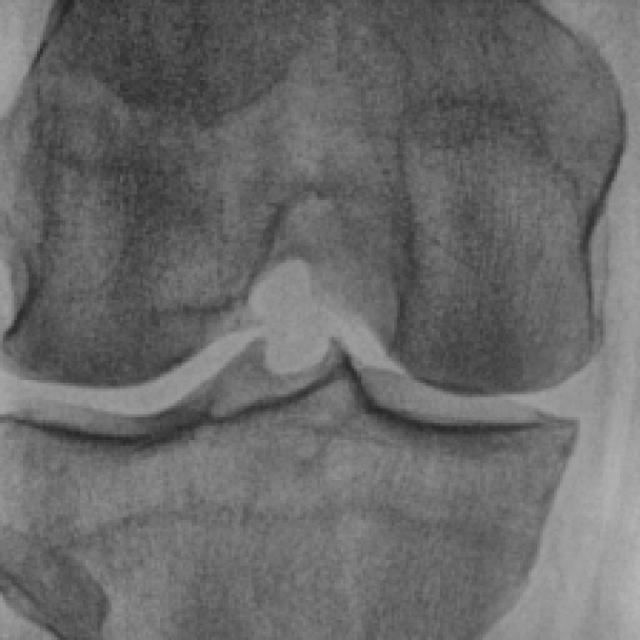femur: (0, 0, 623, 396)
tibia: (1, 344, 579, 640)
